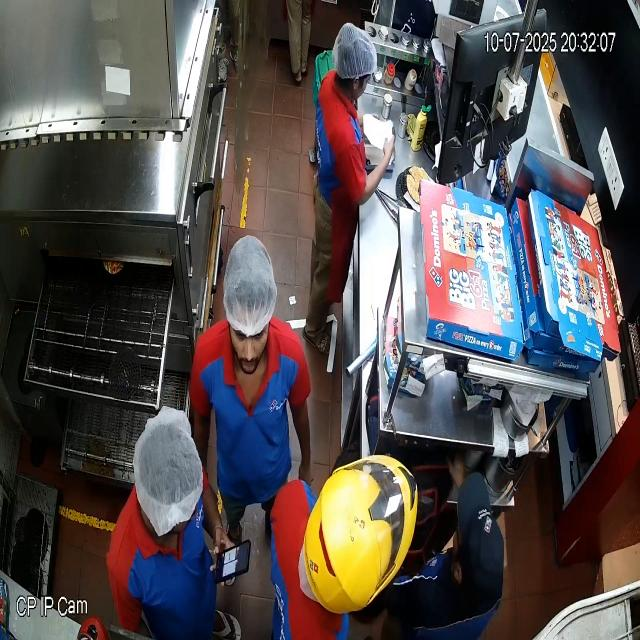helmet: (302, 457, 420, 614)
